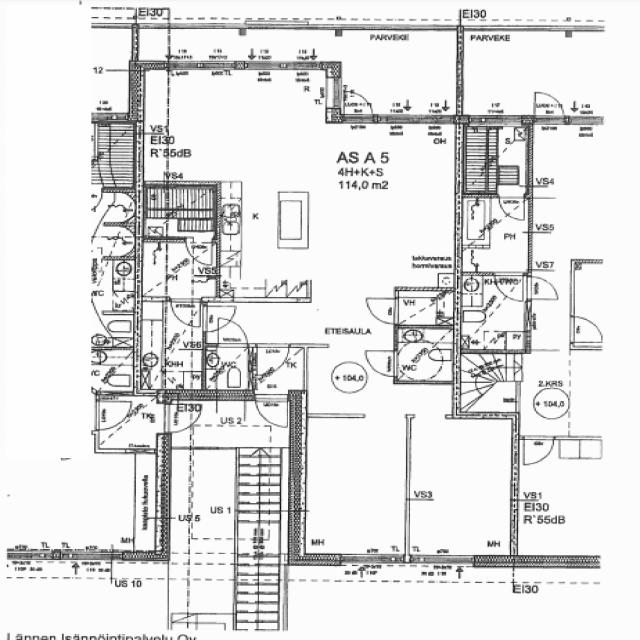door: (256, 393, 286, 428), (257, 343, 288, 375), (202, 306, 237, 332), (170, 299, 200, 328), (346, 91, 372, 124), (364, 350, 397, 376), (217, 318, 246, 347), (365, 298, 397, 324), (185, 237, 212, 266)
